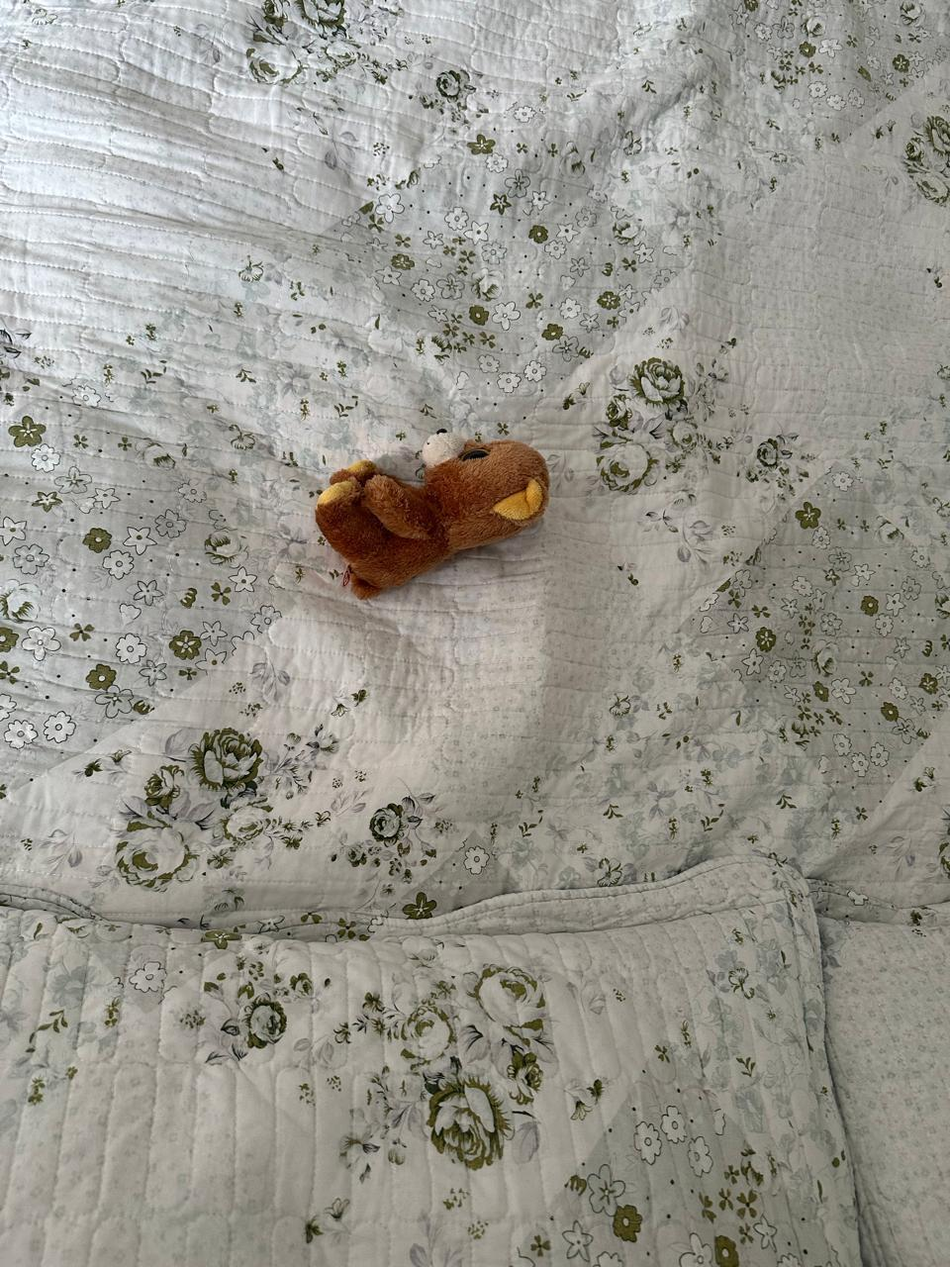peluche_sebastian: (312, 426, 554, 591)
